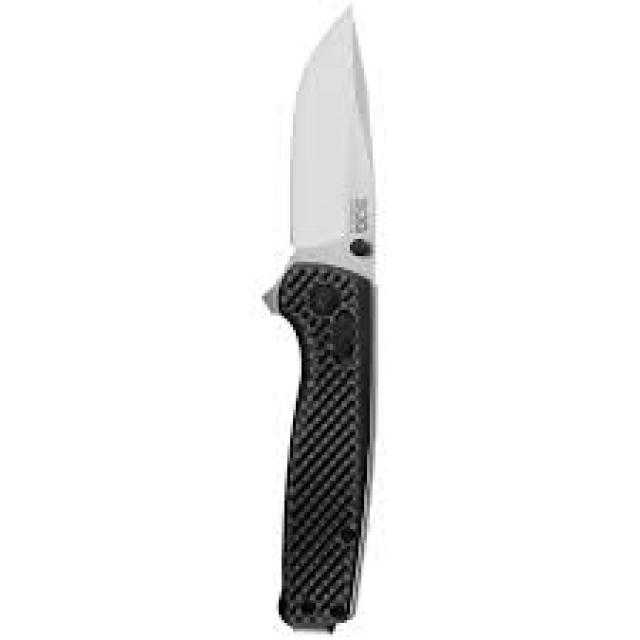knife: (257, 5, 389, 633)
